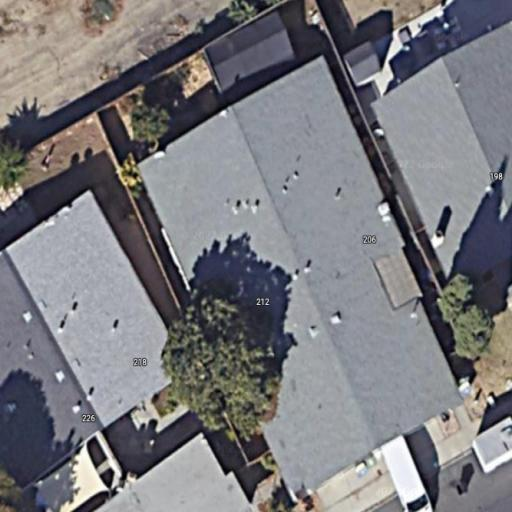TreeShading-Slope-Roof: (137, 56, 463, 501)
